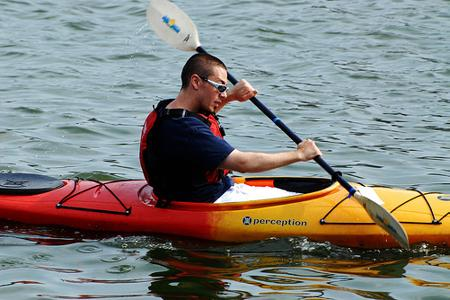person: (138, 51, 324, 205)
